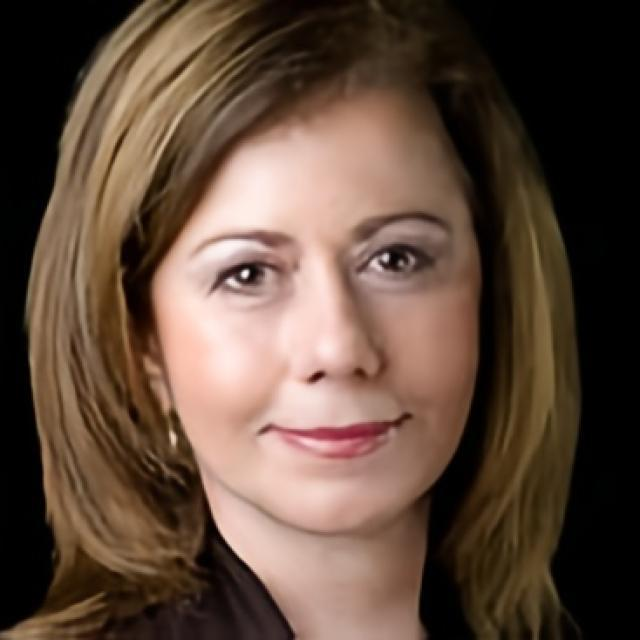content: (158, 78, 482, 532)
